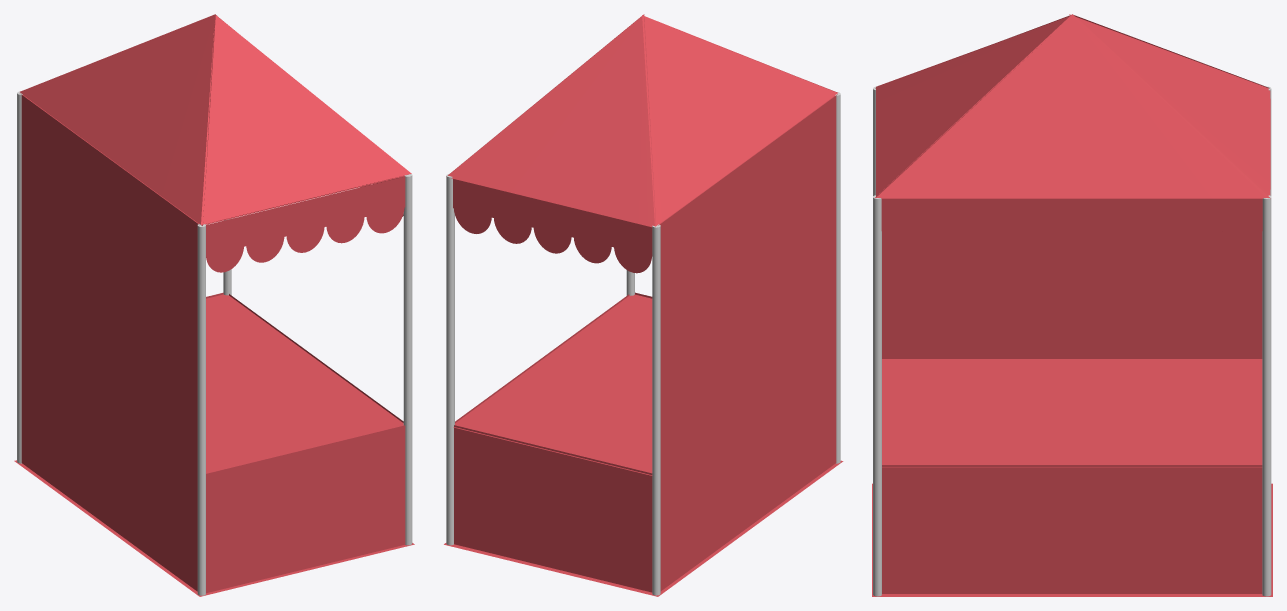
File: stalls.fbx
3 renders of one model, left to right at view 1: azimuth 30°, elevation 25°; view 2: azimuth 150°, elevation 25°; view 3: azimuth 270°, elevation 25°, orthographic. The views are drawn at different scales.
Visible parts, largest first — view 1: Plane.004, Plane.006, Cylinder.008, Cylinder, Cylinder.001, Cylinder.002; view 2: Plane.004, Plane.006, Cylinder.004, Cylinder.002, Cylinder.003, Cylinder.001; view 3: Plane.004, Plane.006, Cylinder.012, Cylinder.003, Cylinder.
Boxes of the visible parts, left/top/right/bottom form: Plane.004: left=14, top=93, right=414, bottom=596; Plane.006: left=20, top=14, right=411, bottom=225; Cylinder.008: left=206, top=176, right=405, bottom=272; Cylinder: left=403, top=174, right=412, bottom=545; Cylinder.001: left=197, top=224, right=205, bottom=595; Cylinder.002: left=17, top=91, right=22, bottom=463; Plane.004: left=444, top=94, right=843, bottom=596; Plane.006: left=446, top=14, right=837, bottom=227; Cylinder.004: left=453, top=179, right=652, bottom=273; Cylinder.002: left=652, top=224, right=660, bottom=595; Cylinder.003: left=446, top=174, right=454, bottom=545; Cylinder.001: left=835, top=92, right=840, bottom=463; Plane.004: left=872, top=231, right=1272, bottom=596; Plane.006: left=875, top=14, right=1270, bottom=198; Cylinder.012: left=881, top=198, right=1262, bottom=252; Cylinder.003: left=1262, top=195, right=1271, bottom=596; Cylinder: left=873, top=195, right=881, bottom=596.
Bounding box in the file's own units: 99.62 × 216 × 149.
